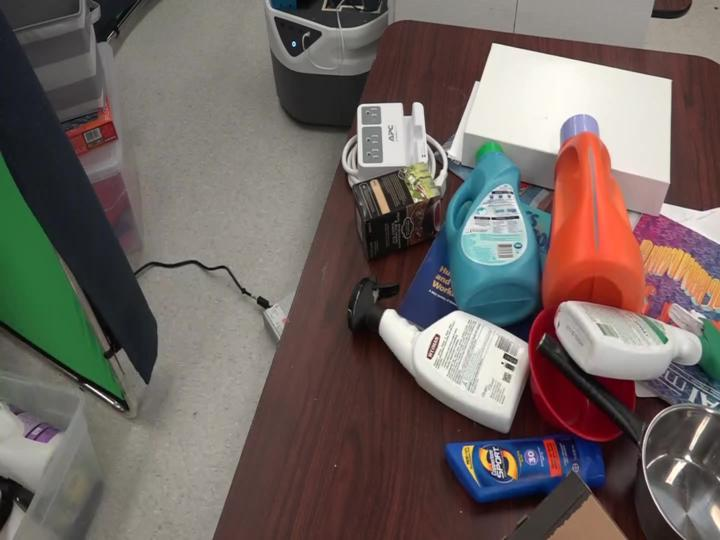downy: (438, 133, 553, 336)
